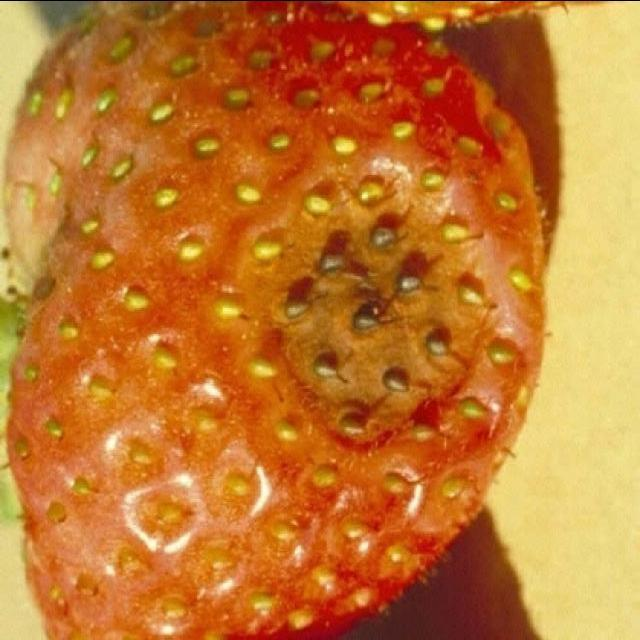Anthracnose Fruit Rot: (238, 138, 508, 459)
